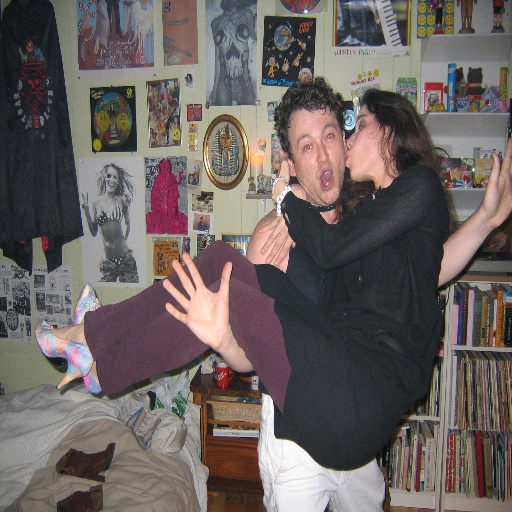hand: (171, 258, 241, 372), (258, 189, 307, 267), (481, 137, 511, 230), (270, 149, 289, 199)
